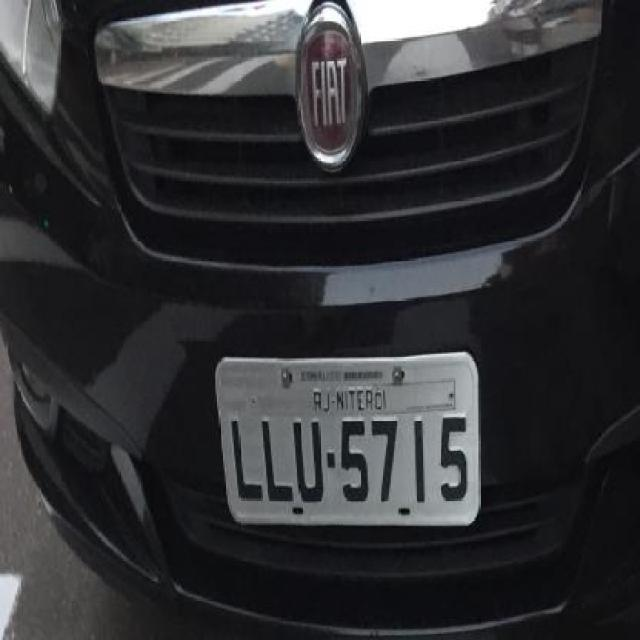old_plate: (210, 347, 492, 532)
